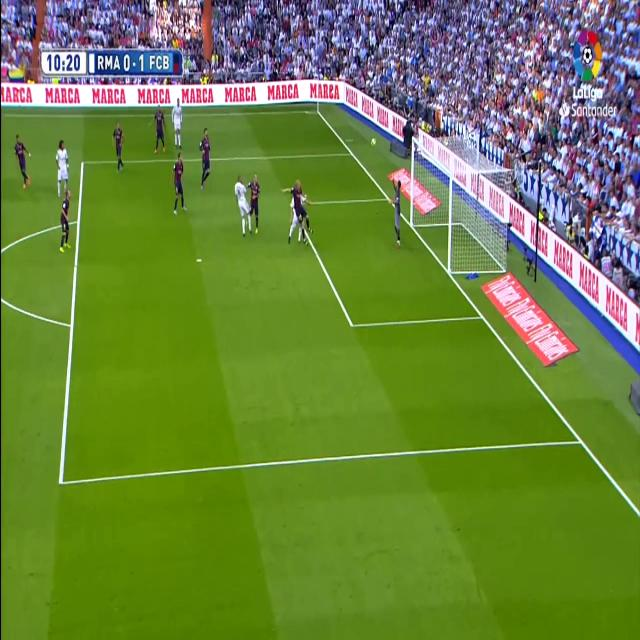bigarea_bottom_inner: (347, 311, 358, 337)
bigarea_top_outter: (347, 146, 355, 159)
bottom_arc_area_intersection: (575, 428, 587, 453)
corner: (312, 105, 321, 117)
smallarea_bottom_outter: (477, 304, 487, 326)
smallarea_top_outter: (384, 190, 392, 207)
